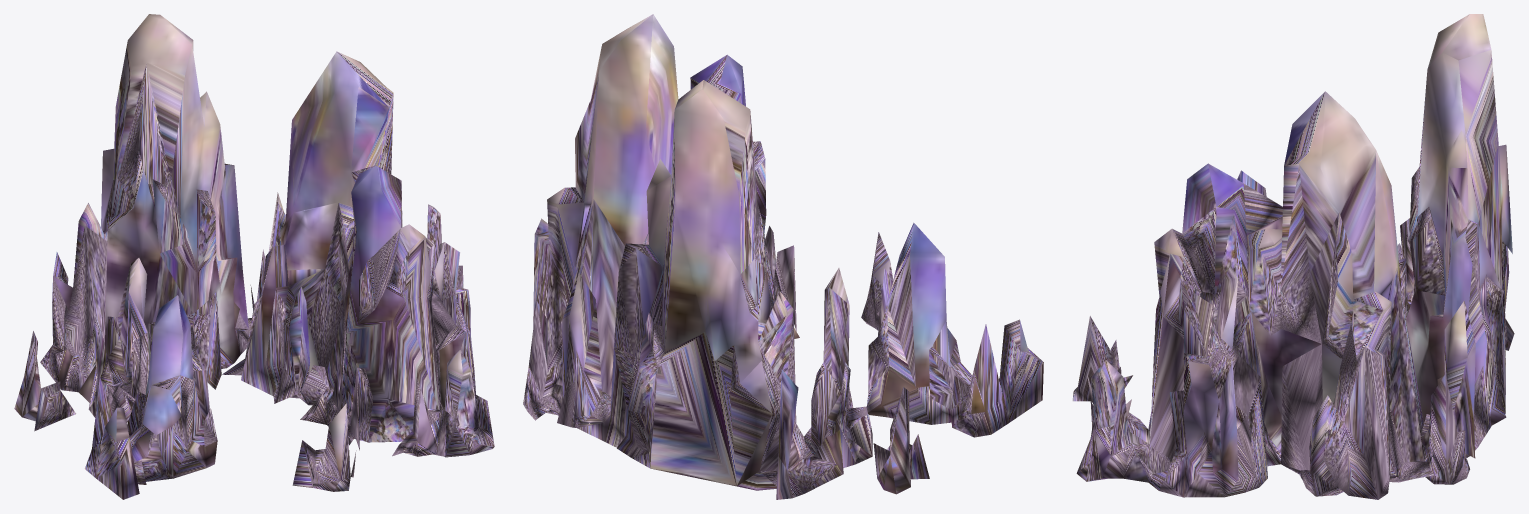
File: Crystal_Peaks_PBR.glb
The picture shows the model from 3 angles, left to right: view 1: azimuth 30°, elevation 25°; view 2: azimuth 150°, elevation 25°; view 3: azimuth 270°, elevation 25°; orthographic projection. The views are drawn at different scales.
Visible parts, largest first — view 1: Crystal_Peaks_PBR; view 2: Crystal_Peaks_PBR; view 3: Crystal_Peaks_PBR.
Part boxes in pixels (x1=…): Crystal_Peaks_PBR: x1=14, y1=14, x2=494, y2=499; Crystal_Peaks_PBR: x1=523, y1=14, x2=1043, y2=499; Crystal_Peaks_PBR: x1=1072, y1=14, x2=1514, y2=499.
Bounding box in the file's own units: 1.99 × 1.79 × 1.86.
1 material, 1 textured.
